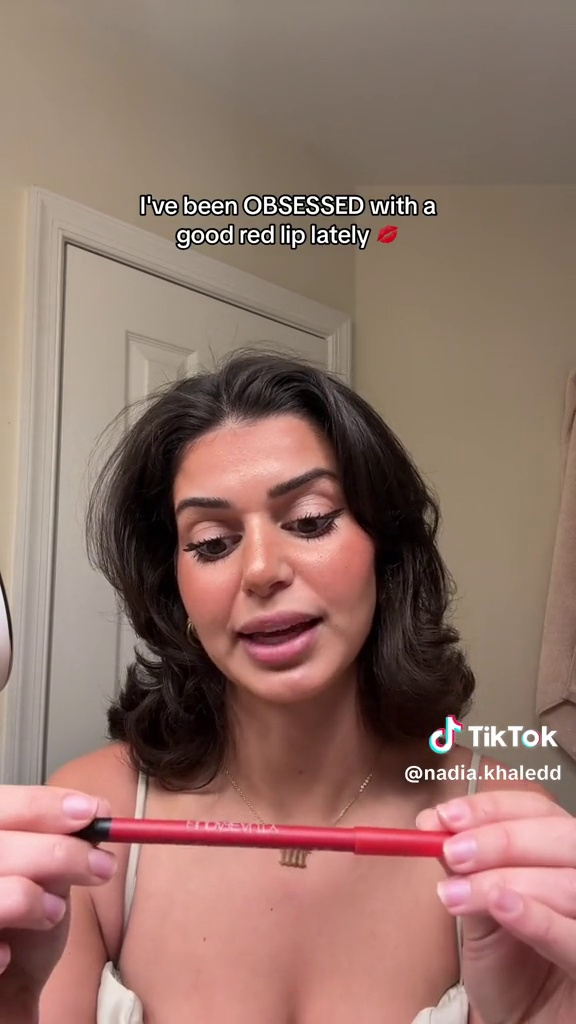train' :'yolo_data/train/images',: (40, 791, 456, 884)
